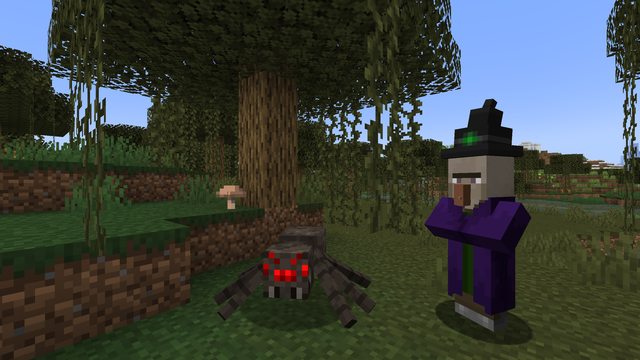araignees: (223, 221, 368, 344)
sorcieres: (445, 147, 513, 341)
